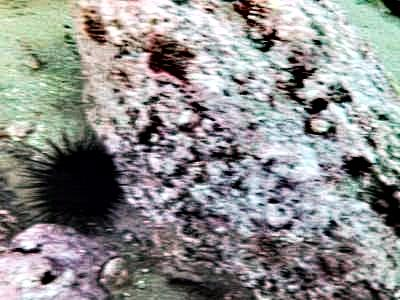urchin: (11, 124, 127, 231)
